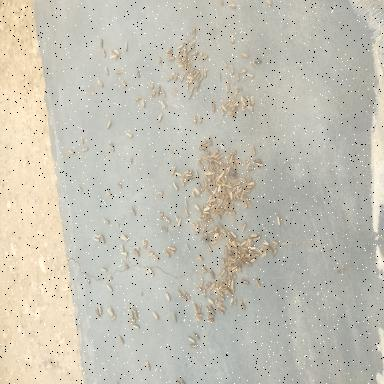pbw: (110, 312, 118, 322), (264, 246, 274, 254), (223, 154, 231, 164), (224, 198, 230, 210), (272, 248, 278, 260), (187, 336, 196, 344), (208, 268, 214, 280), (132, 308, 138, 320), (107, 306, 114, 316), (219, 268, 226, 278), (213, 160, 224, 166), (228, 0, 236, 8), (146, 250, 154, 258), (183, 291, 191, 299), (245, 177, 253, 185), (195, 284, 203, 292), (216, 308, 224, 316), (163, 216, 171, 224), (174, 171, 182, 179), (210, 207, 216, 217), (194, 186, 200, 196), (252, 58, 258, 68), (255, 278, 261, 288), (144, 358, 150, 368), (176, 286, 182, 296), (180, 178, 186, 188), (197, 160, 203, 170), (228, 270, 234, 280), (239, 300, 245, 310), (208, 305, 214, 315), (165, 292, 171, 302), (240, 222, 246, 232), (228, 231, 234, 241), (232, 108, 238, 118), (210, 238, 220, 244), (114, 48, 121, 56), (230, 231, 238, 238), (204, 186, 211, 194), (128, 316, 135, 324), (214, 224, 221, 232), (255, 246, 262, 254), (196, 254, 204, 261), (200, 265, 207, 273), (161, 224, 168, 232), (244, 188, 252, 195), (116, 179, 122, 188), (220, 228, 226, 237), (246, 161, 252, 170), (101, 218, 110, 224), (240, 103, 246, 112), (239, 178, 248, 184), (118, 335, 124, 344), (234, 188, 243, 194), (212, 286, 218, 295), (129, 207, 135, 216), (225, 82, 230, 92), (198, 182, 203, 192), (221, 258, 226, 268), (226, 164, 231, 174), (231, 286, 236, 296), (193, 304, 198, 314), (195, 82, 200, 92), (231, 200, 236, 210), (234, 89, 240, 97), (226, 110, 234, 116), (98, 304, 102, 316), (148, 268, 154, 276), (216, 300, 222, 308), (205, 306, 211, 314), (176, 58, 182, 66), (148, 80, 154, 88), (206, 155, 218, 159), (208, 136, 212, 148), (262, 240, 270, 246), (152, 311, 158, 319), (180, 295, 188, 301), (217, 290, 225, 296), (182, 169, 190, 175), (247, 104, 253, 112), (160, 101, 166, 109), (190, 39, 196, 47), (221, 186, 227, 194), (216, 154, 224, 160), (264, 0, 272, 6), (241, 96, 247, 104), (216, 174, 222, 182), (94, 308, 100, 316), (244, 260, 252, 266), (209, 286, 215, 294), (232, 240, 238, 248), (217, 287, 229, 291), (220, 164, 226, 172), (202, 178, 208, 186), (222, 104, 228, 112), (106, 284, 112, 292), (200, 140, 208, 146), (228, 264, 234, 272), (132, 324, 140, 330), (210, 282, 216, 290), (195, 227, 201, 235), (200, 54, 208, 60), (276, 214, 280, 226), (206, 314, 214, 320), (224, 255, 228, 267), (222, 276, 228, 284), (187, 175, 195, 181), (203, 206, 211, 212), (194, 204, 200, 212), (212, 186, 218, 194), (271, 240, 279, 246), (244, 252, 252, 258), (206, 196, 212, 204), (152, 254, 160, 260), (172, 182, 178, 190), (218, 170, 224, 178), (220, 176, 226, 184), (240, 68, 248, 74), (250, 96, 255, 105), (160, 87, 165, 96), (252, 145, 256, 156), (228, 276, 232, 287), (211, 101, 215, 112), (185, 207, 189, 218), (207, 298, 214, 304), (212, 149, 218, 156), (231, 267, 238, 273), (220, 282, 227, 288), (198, 75, 204, 82), (98, 80, 104, 87), (218, 295, 225, 301), (248, 250, 255, 256), (212, 230, 219, 236), (149, 92, 156, 98), (234, 194, 240, 201), (248, 165, 255, 171), (166, 48, 173, 54), (225, 101, 231, 108), (218, 208, 225, 214), (219, 304, 226, 310), (214, 212, 220, 219), (195, 316, 202, 322), (177, 52, 182, 60), (192, 114, 196, 124), (224, 246, 228, 256), (207, 244, 212, 252), (198, 303, 202, 313), (195, 168, 199, 178), (168, 246, 176, 251), (190, 189, 195, 197), (198, 52, 203, 60), (233, 296, 237, 306), (248, 239, 252, 249), (252, 159, 262, 163), (219, 187, 223, 197), (240, 190, 244, 200), (217, 184, 221, 194), (212, 178, 216, 188), (158, 56, 162, 66), (158, 112, 162, 122), (207, 175, 212, 183), (214, 202, 219, 210), (224, 172, 228, 182), (210, 180, 214, 190), (160, 212, 164, 222), (230, 34, 234, 44), (182, 48, 186, 58), (198, 146, 208, 150), (232, 271, 237, 279), (172, 312, 176, 322), (239, 280, 249, 284), (253, 236, 261, 241), (256, 162, 264, 167), (172, 165, 176, 175), (220, 142, 225, 150), (246, 237, 250, 247), (230, 279, 234, 289), (234, 162, 238, 172), (186, 76, 194, 81), (142, 98, 146, 108), (120, 244, 125, 252), (216, 278, 220, 288), (194, 222, 198, 232), (196, 217, 204, 222), (243, 198, 247, 208), (230, 158, 234, 168), (190, 85, 195, 93), (212, 169, 216, 179), (178, 217, 182, 227), (230, 98, 234, 107), (121, 234, 127, 240), (193, 334, 199, 340), (204, 215, 210, 221), (234, 158, 240, 164), (246, 95, 250, 104), (187, 56, 193, 62), (202, 157, 208, 163), (104, 66, 108, 75), (232, 264, 238, 270), (239, 248, 248, 252), (223, 210, 229, 216), (167, 76, 173, 82), (194, 70, 200, 76), (222, 61, 228, 67), (198, 114, 202, 123), (184, 68, 190, 74), (122, 262, 128, 268), (226, 288, 232, 294), (109, 144, 115, 150), (130, 309, 134, 318), (247, 182, 256, 186), (200, 276, 203, 288), (84, 278, 90, 284), (195, 74, 201, 80), (236, 240, 242, 246), (205, 282, 211, 288), (238, 260, 244, 266), (230, 149, 236, 155), (228, 173, 234, 179), (136, 96, 142, 102), (228, 240, 234, 246), (240, 240, 246, 246), (228, 261, 232, 270), (178, 63, 184, 69), (218, 232, 223, 239), (226, 242, 231, 249), (250, 258, 257, 263), (242, 52, 249, 57), (207, 229, 214, 234), (248, 246, 256, 250), (168, 251, 176, 255), (208, 198, 216, 202), (200, 214, 208, 218), (221, 183, 229, 187), (168, 56, 176, 60), (136, 70, 140, 78), (213, 298, 217, 306), (240, 252, 244, 260), (190, 344, 198, 348), (107, 120, 111, 128), (188, 62, 192, 70), (102, 48, 106, 56), (204, 171, 212, 175), (252, 253, 260, 257), (228, 210, 236, 214), (210, 161, 214, 169), (174, 214, 178, 222), (250, 233, 258, 237), (182, 176, 186, 184), (230, 66, 234, 74), (106, 188, 110, 196), (202, 150, 210, 154), (207, 318, 215, 322), (236, 172, 240, 180), (180, 74, 184, 82), (220, 107, 224, 115), (80, 136, 84, 144), (101, 235, 105, 243), (238, 266, 242, 274), (229, 192, 233, 200), (210, 218, 214, 226), (244, 185, 252, 189), (130, 156, 134, 164), (176, 49, 180, 57), (185, 50, 189, 58), (190, 67, 195, 73), (242, 255, 248, 260), (182, 58, 187, 64), (217, 164, 220, 174), (188, 92, 193, 98), (225, 267, 228, 277), (181, 46, 186, 52), (77, 186, 82, 192), (210, 204, 216, 209), (126, 132, 132, 137), (174, 73, 178, 80), (214, 233, 218, 240), (204, 288, 206, 302), (166, 54, 173, 58), (247, 74, 254, 78), (186, 80, 193, 84), (203, 142, 210, 146), (241, 246, 248, 250), (184, 200, 188, 207), (143, 242, 147, 249), (185, 243, 189, 250), (182, 40, 189, 44), (187, 46, 194, 50), (230, 250, 234, 257), (100, 39, 103, 48), (171, 72, 176, 77), (192, 52, 198, 56), (223, 100, 229, 104), (232, 100, 236, 106), (94, 234, 100, 238), (157, 191, 163, 195), (157, 86, 160, 94), (184, 59, 188, 65), (192, 70, 198, 74), (124, 253, 128, 259), (177, 45, 183, 49), (188, 73, 194, 77), (68, 150, 74, 154), (116, 70, 122, 74), (94, 238, 100, 242), (210, 236, 216, 240), (202, 211, 210, 214), (122, 80, 125, 87), (204, 68, 206, 78), (216, 197, 221, 201), (251, 236, 253, 246), (237, 249, 241, 254), (101, 268, 106, 272), (207, 162, 209, 172), (231, 106, 236, 110), (234, 103, 240, 106), (82, 148, 88, 151), (184, 74, 187, 80), (125, 42, 127, 51), (186, 84, 188, 92), (185, 174, 193, 176), (220, 0, 224, 4), (196, 314, 204, 316), (237, 72, 239, 80), (184, 62, 186, 70), (203, 96, 205, 104), (108, 276, 112, 280), (264, 248, 266, 256), (202, 206, 204, 213), (121, 252, 128, 254), (230, 248, 236, 250), (231, 154, 232, 164), (219, 73, 220, 82), (158, 91, 160, 95)
